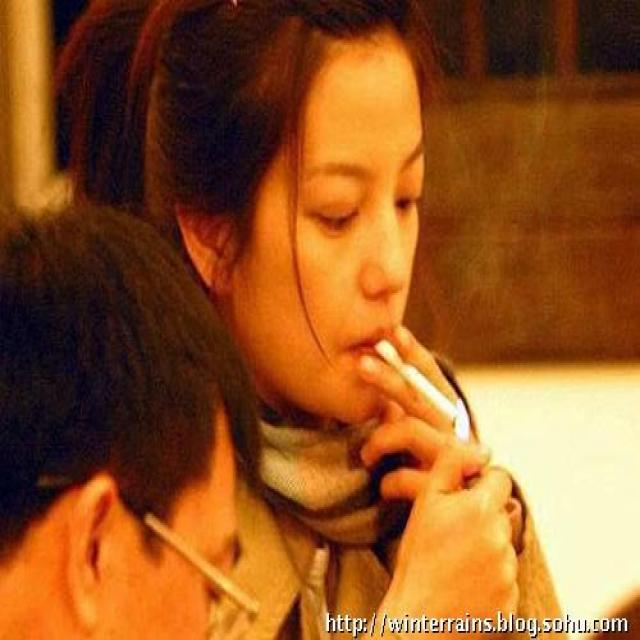smoke: (381, 334, 469, 442)
